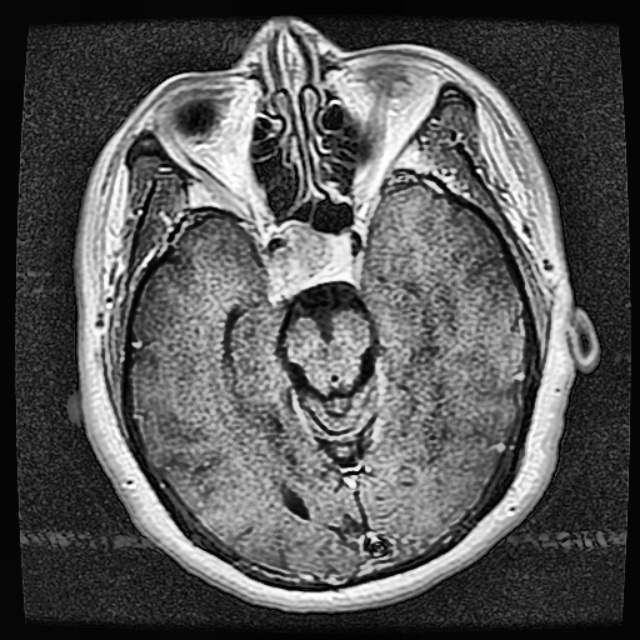Pituitary: (270, 225, 353, 287)
